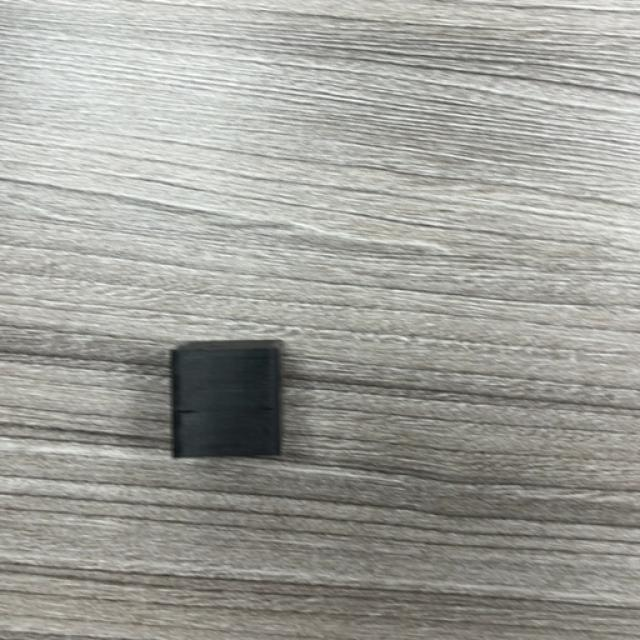Negro: (170, 340, 285, 460)
